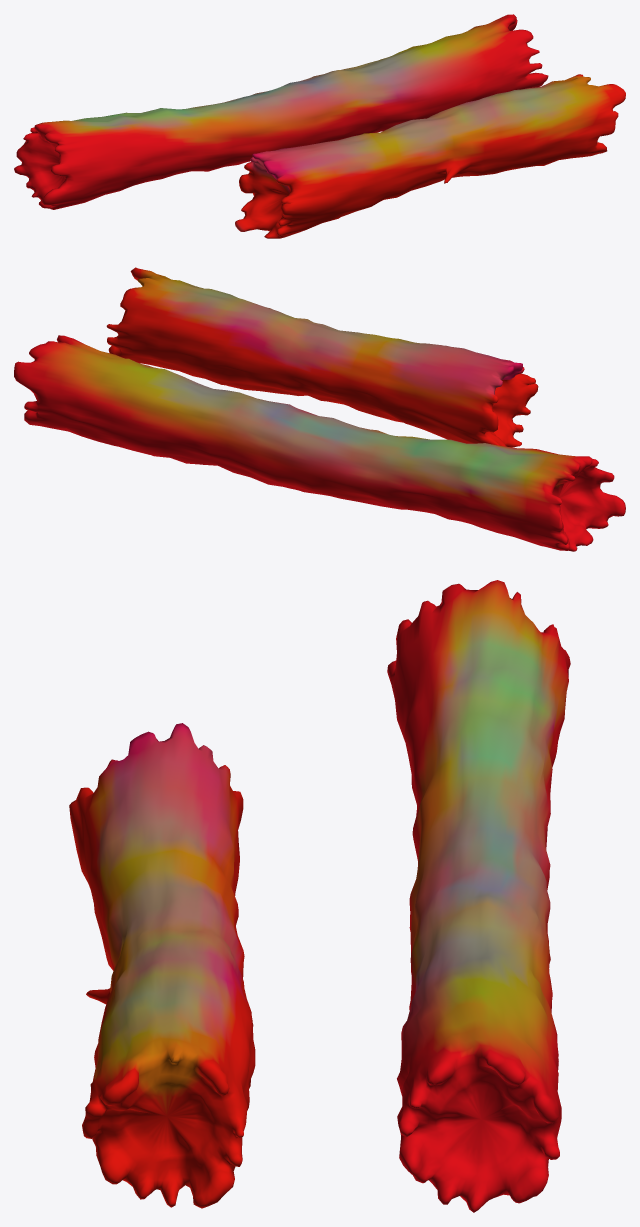
Rendered from TreeLogs.fbx.
3 renders of one model, top to bottom at view 1: azimuth 30°, elevation 25°; view 2: azimuth 150°, elevation 25°; view 3: azimuth 270°, elevation 25°, orthographic. The views are drawn at different scales.
Visible parts, largest first — view 1: TreeLog_Long, TreeLog_Short; view 2: TreeLog_Long, TreeLog_Short; view 3: TreeLog_Long, TreeLog_Short.
Part boxes in pixels (x1,y1,x2,y2): TreeLog_Long: (14, 14, 548, 209); TreeLog_Short: (235, 74, 625, 238); TreeLog_Long: (14, 335, 625, 551); TreeLog_Short: (106, 267, 538, 447); TreeLog_Long: (387, 580, 570, 1212); TreeLog_Short: (69, 723, 255, 1208).
Size of the model in its own units: 1868 by 304 by 794.
